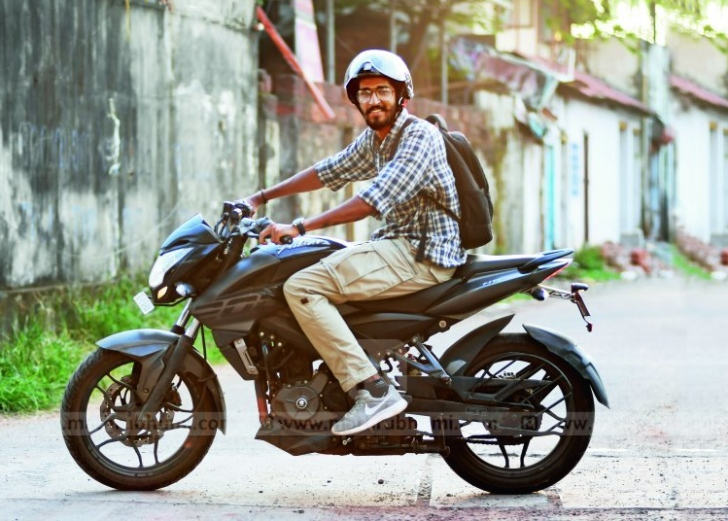helmet: (334, 52, 414, 140)
